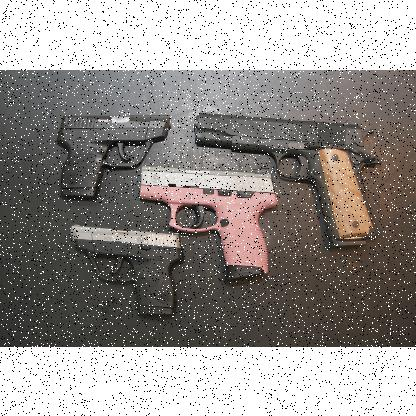gun: (192, 110, 382, 246), (139, 164, 277, 282), (69, 223, 185, 315), (57, 114, 172, 196)
